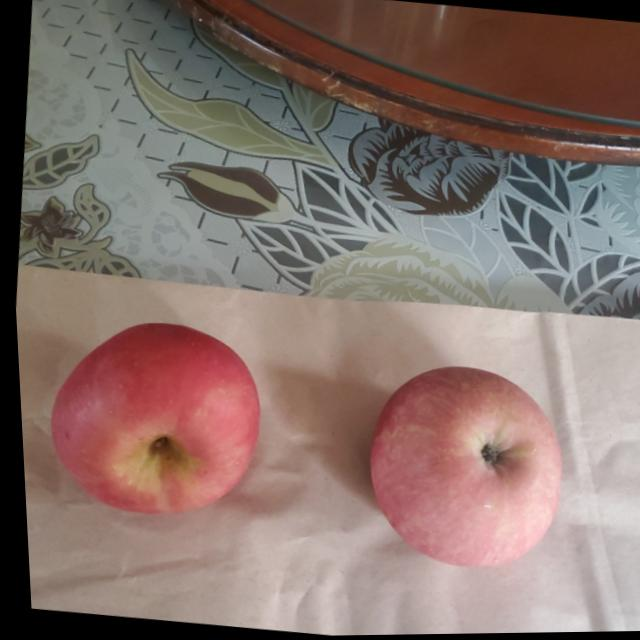apple: (31, 310, 270, 526), (350, 355, 570, 575)
